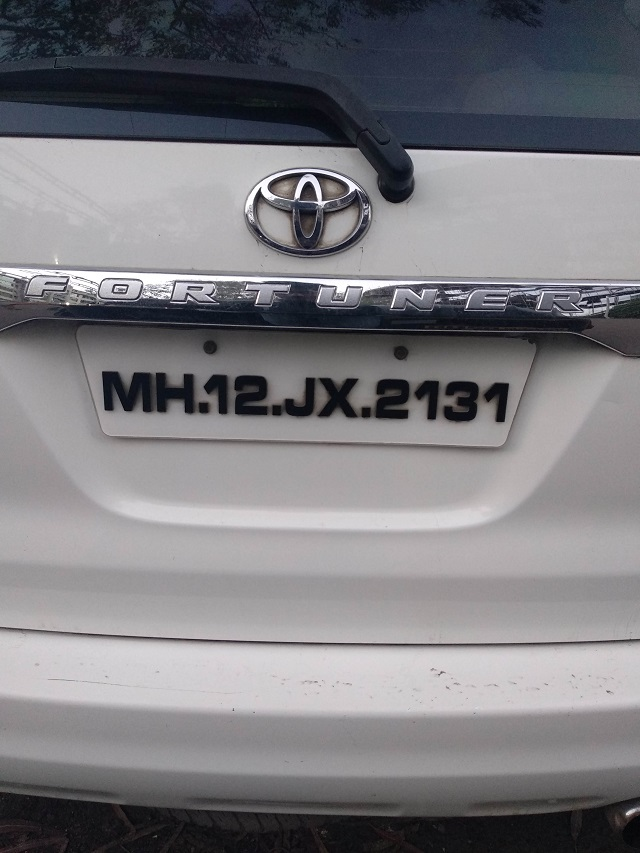licenseplate: (71, 319, 546, 463)
